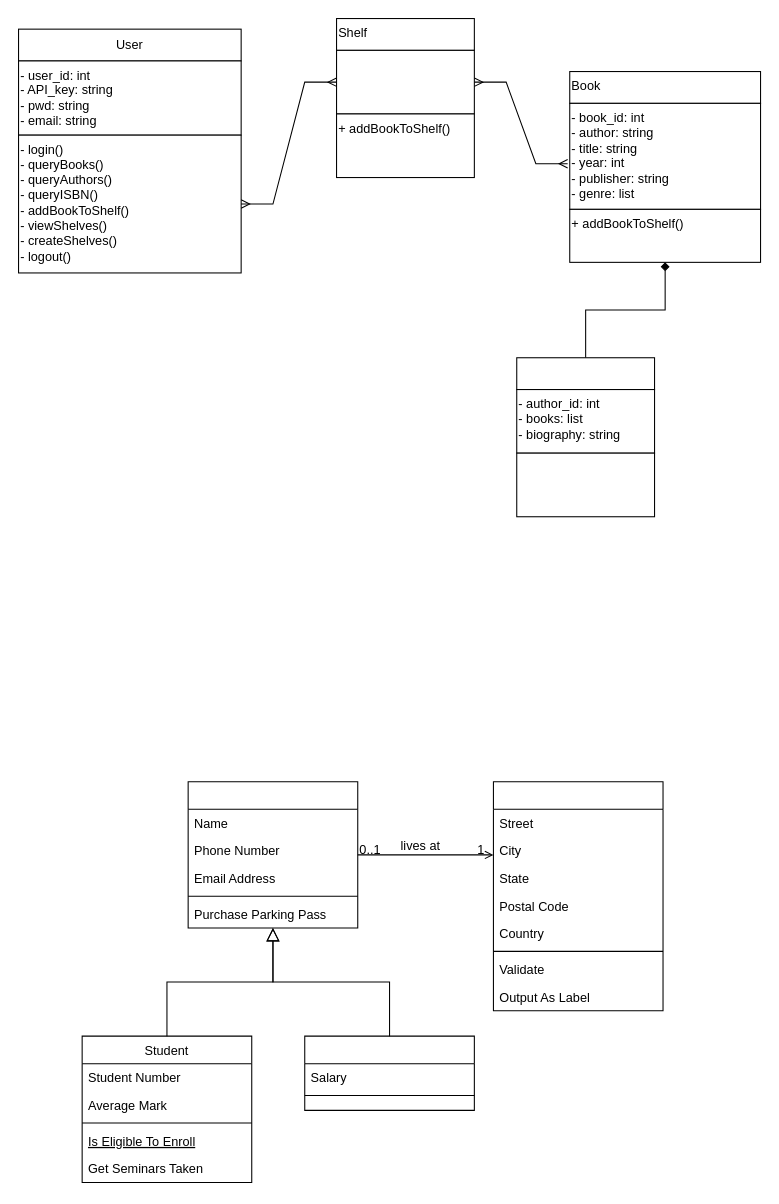
This 779x1204 diagram has some shape labels left out. The box of each missing label's shape, as (x1, y1, x2, y2) in pixels:
- shelf_id: int - title: string - books: list: (335, 49, 474, 114)
Address: (492, 781, 663, 1011)
Autor: (516, 357, 655, 390)
Person: (187, 781, 358, 928)
Professor: (304, 1035, 474, 1110)
